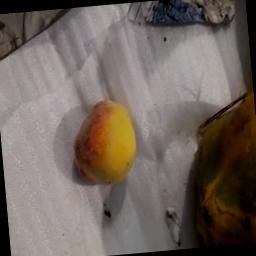Peach Ripe: (56, 84, 154, 194)
